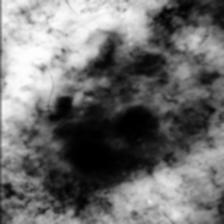Potentially Malignant Skin Tumors: (76, 137, 128, 185)
